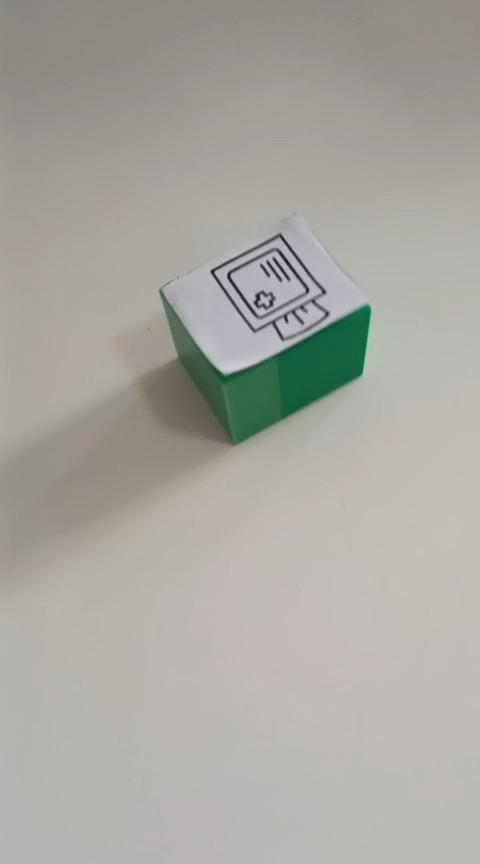Gauze: (157, 209, 372, 445)
